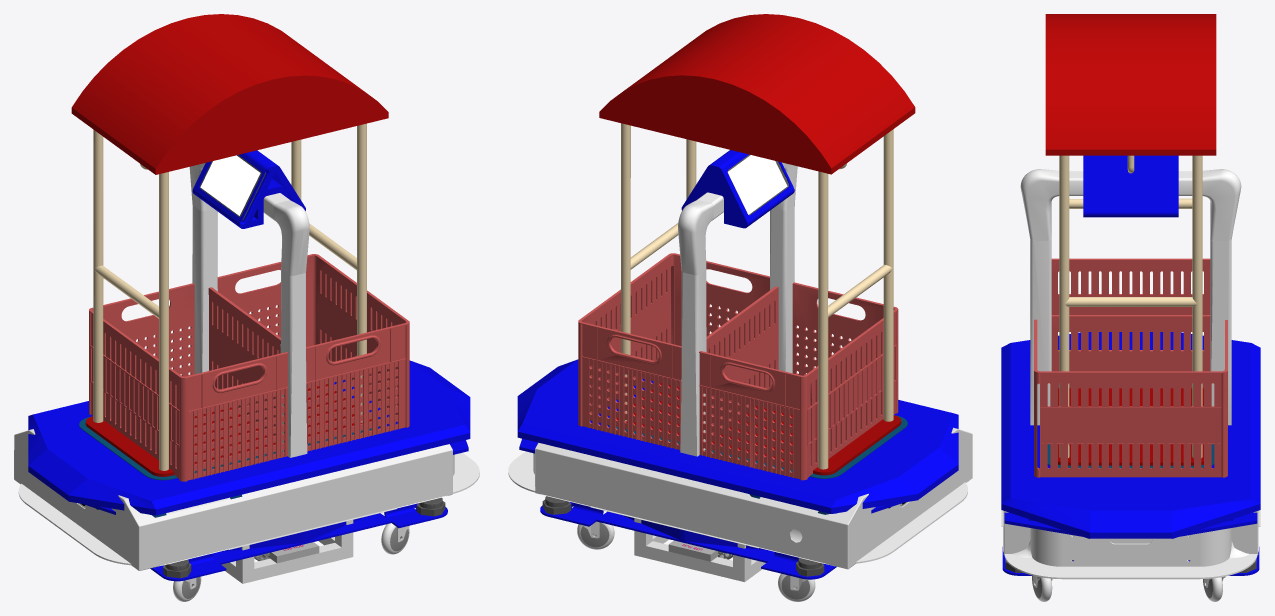
The model's file is amir-2022.glb.
The picture shows the model from 3 angles, left to right: view 1: azimuth 30°, elevation 25°; view 2: azimuth 150°, elevation 25°; view 3: azimuth 270°, elevation 25°; orthographic projection.
Parts seen in each view (by area): view 1: hotel_carriage-1, plastic crate-2, final_cover-1, plastic crate-1, Leg-1, Leg-2, Part4-1, Structure-1, Tablet-1, Cover Assymbly-1/CoverTop Chamfer Front-2, Cover Assymbly-1/MirrorMirrorCoverTop Chamfer Mesh-5, Part2-1 (+21 smaller); view 2: hotel_carriage-1, plastic crate-2, final_cover-1, plastic crate-1, Leg-2, Leg-1, Part4-1, Structure-1, Tablet-1, Cover Assymbly-1/CoverTop Chamfer Front-2, Cover Assymbly-1/MirrorCoverTop Chamfer Mesh-4, Part2-2 (+23 smaller); view 3: hotel_carriage-1, plastic crate-1, plastic crate-2, Part4-1, Side Assy UI-1/Side Cover Camera-2, Leg-1, Cover Assymbly-1/CoverTop Chamfer Front-1, Leg-2, Cover Assymbly-1/MirrorCoverTop Chamfer Mesh-3, Cover Assymbly-1/CoverTop Chamfer Mesh-1, Part2-1, Part2-2 (+24 smaller).
Boxes of the visible parts, bbox=[...] form: hotel_carriage-1: bbox=[71, 14, 388, 480]; plastic crate-2: bbox=[89, 283, 288, 481]; final_cover-1: bbox=[14, 429, 452, 570]; plastic crate-1: bbox=[210, 254, 409, 451]; Leg-1: bbox=[280, 270, 307, 457]; Leg-2: bbox=[192, 205, 217, 374]; Part4-1: bbox=[192, 150, 305, 228]; Structure-1: bbox=[221, 520, 353, 583]; Tablet-1: bbox=[200, 155, 265, 220]; Cover Assymbly-1/CoverTop Chamfer Front-2: bbox=[28, 446, 103, 500]; Cover Assymbly-1/MirrorMirrorCoverTop Chamfer Mesh-5: bbox=[68, 473, 155, 515]; Part2-1: bbox=[273, 200, 309, 275]; hotel_carriage-1: bbox=[599, 14, 915, 478]; plastic crate-2: bbox=[699, 282, 898, 480]; final_cover-1: bbox=[535, 427, 972, 569]; plastic crate-1: bbox=[578, 253, 777, 450]; Leg-2: bbox=[680, 269, 706, 456]; Leg-1: bbox=[770, 204, 794, 373]; Part4-1: bbox=[681, 150, 794, 228]; Structure-1: bbox=[634, 518, 765, 582]; Tablet-1: bbox=[727, 154, 788, 215]; Cover Assymbly-1/CoverTop Chamfer Front-2: bbox=[883, 445, 958, 499]; Cover Assymbly-1/MirrorCoverTop Chamfer Mesh-4: bbox=[831, 471, 918, 513]; Part2-2: bbox=[678, 199, 713, 275]; hotel_carriage-1: bbox=[1045, 14, 1216, 468]; plastic crate-1: bbox=[1034, 315, 1227, 477]; plastic crate-2: bbox=[1051, 258, 1210, 350]; Part4-1: bbox=[1083, 155, 1178, 217]; Side Assy UI-1/Side Cover Camera-2: bbox=[1062, 533, 1199, 579]; Leg-1: bbox=[1030, 240, 1051, 425]; Cover Assymbly-1/CoverTop Chamfer Front-1: bbox=[1090, 499, 1171, 538]; Leg-2: bbox=[1210, 240, 1231, 425]; Cover Assymbly-1/MirrorCoverTop Chamfer Mesh-3: bbox=[1001, 499, 1089, 538]; Cover Assymbly-1/CoverTop Chamfer Mesh-1: bbox=[1172, 499, 1260, 538]; Part2-1: bbox=[1020, 169, 1059, 240]; Part2-2: bbox=[1202, 169, 1241, 240].
Bounding box in the file's own units: 1.38 × 1.65 × 0.76.
